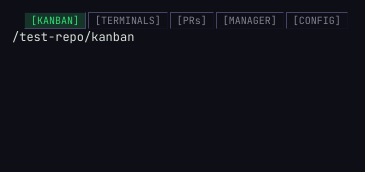
Scenario: ViewSwitcher › navigates to the clicked view
Click the button "[TERMINALS]" at (128, 20), box left=88, top=12, right=168, bottom=29
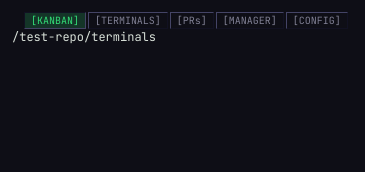
expect the text with test id "location" reads "/test-repo/terminals": met, box left=12, top=29, right=156, bottom=45
